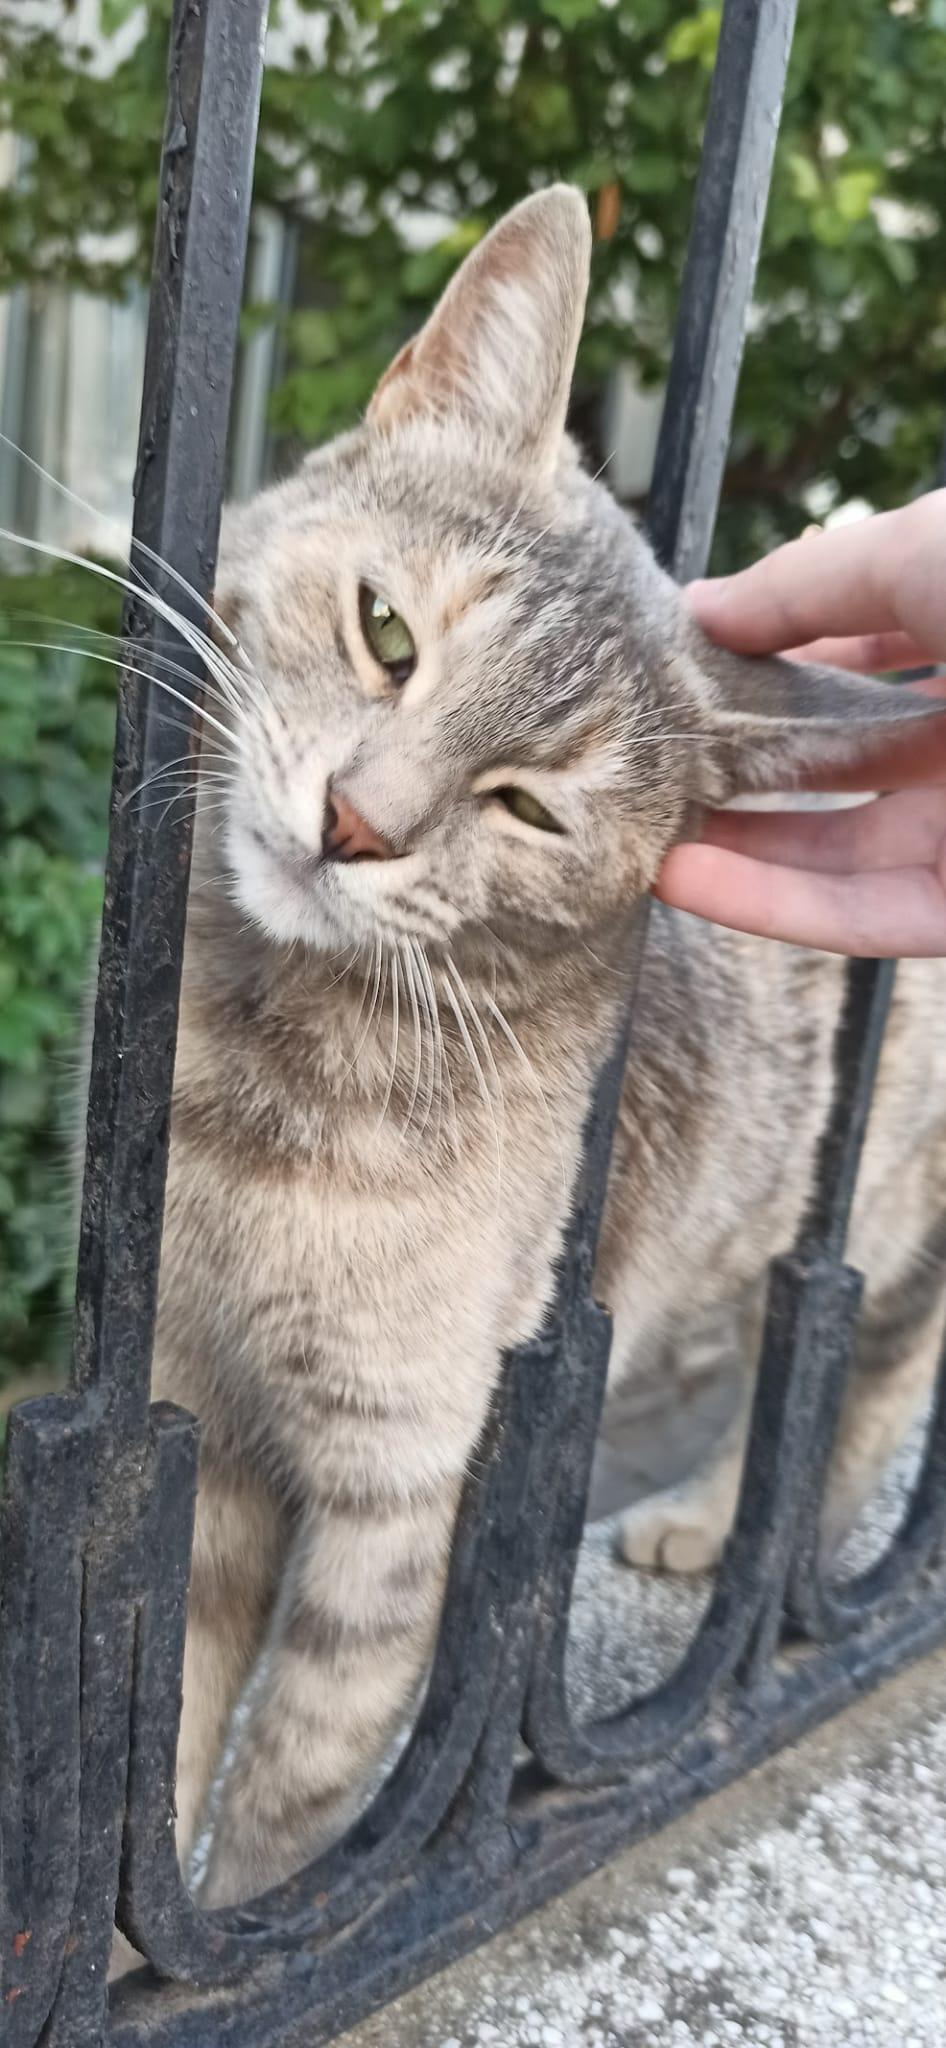kedo: (183, 197, 700, 976)
